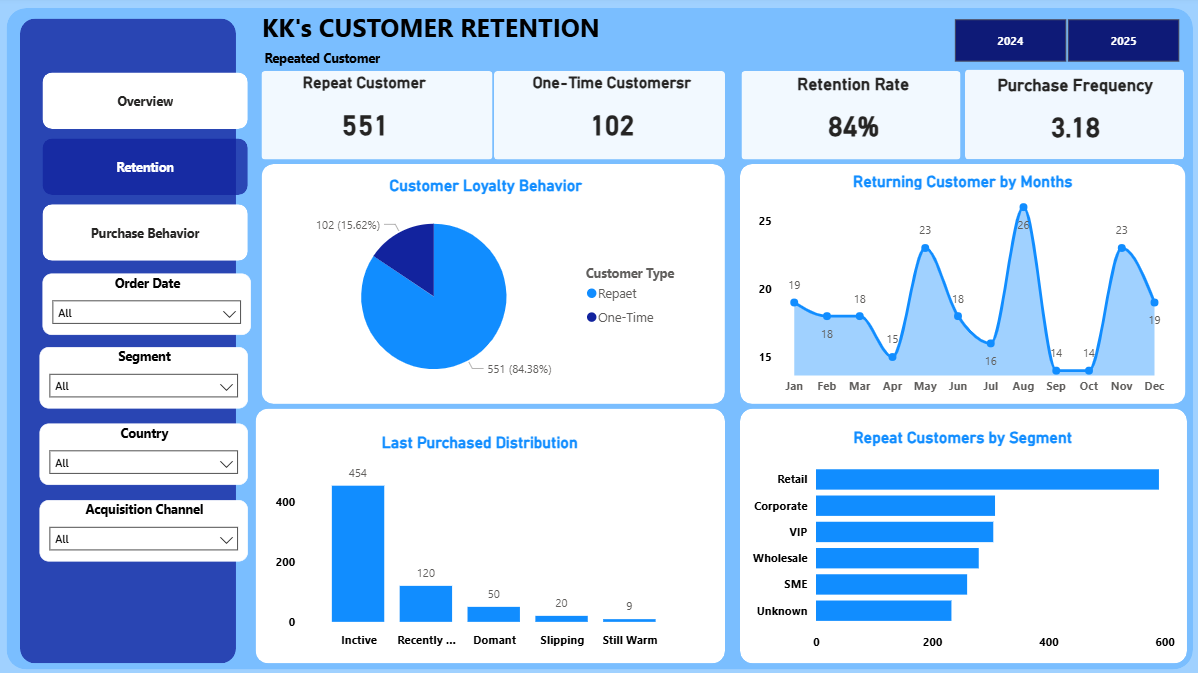

Layout of this report page (visuals, bound fields, positions):
{"tool":"powerbi","page":{"name":"Retention","canvas":[1280,720],"ordinal":1},"visuals":[{"type":"shape","box":[11.2,12.7,1260,702.5],"z":0},{"type":"shape","box":[25.5,23.9,229.4,685],"z":1000},{"type":"shape","box":[282.1,79.6,245.3,94],"z":1000,"group":"g1"},{"type":"group","id":"g1","title":"Group 1","box":[282.1,78.1,979.6,95.6],"z":2000},{"type":"shape","box":[528.8,79.6,245.3,94],"z":2000,"group":"g1"},{"type":"shape","box":[791.8,79.7,232.6,94],"z":3000,"group":"g1"},{"type":"shape","box":[275.6,438.1,498.6,270.8],"z":3000},{"type":"shape","box":[1029.2,78.1,232.6,95.6],"z":4000,"group":"g1"},{"type":"pageNavigator","box":[49.4,81.2,218.2,200.7],"z":4000},{"type":"card","title":"Repeat Customer","fields":{"Values":["Calender.Repeat Customers"]},"box":[281.9,81.2,218.2,89.2],"z":5000},{"type":"card","title":"One-Time Customersr","fields":{"Values":["Calender.One Time Customer"]},"box":[544.8,81.2,218.2,89.2],"z":6000},{"type":"shape","box":[234.2,46.2,224.6,38.2],"z":7000},{"type":"card","title":"Retention Rate","fields":{"Values":["Calender.Retention Customer"]},"box":[801.2,82.8,218.2,86],"z":8000},{"type":"card","title":"Purchase Frequency","fields":{"Values":["Calender.Purchase Frequency"]},"box":[1037,84.4,218.2,86],"z":9000},{"type":"shape","box":[790.1,438.1,474.7,270.8],"z":10000},{"type":"shape","box":[281.9,178.4,492.2,254.9],"z":11000},{"type":"shape","box":[790.1,178.4,473.1,254.9],"z":12000},{"type":"pieChart","title":"Customer Loyalty Behavior","fields":{"Category":["Customer_Summary.Customer Type"],"Y":["CountNonNull(Customer_Summary.Customer id)"]},"box":[297.9,191.2,444.4,235.8],"z":13000},{"type":"lineChart","title":"Returning Customer by Months","fields":{"Category":["Calender.Month Name"],"Y":["Calender.Repeat Customers"]},"box":[804.4,186.4,444.4,245.3],"z":14000},{"type":"columnChart","title":"Last Purchased Distribution","fields":{"Y":["CountNonNull(Customer_Summary.Customer id)"],"Category":["Customer_Summary.Recency"]},"box":[291.5,463.5,444.4,235.8],"z":15000},{"type":"clusteredBarChart","title":"Repeat Customers by Segment","fields":{"Category":["Customer Transaction (2).Segment"],"Y":["CountNonNull(Customer Transaction (2).Customer id)"]},"box":[796.5,458.8,460.4,245.3],"z":16000},{"type":"shape","box":[281.9,14.3,954.2,62.1],"z":17000},{"type":"slicer","fields":{"Values":["Calender.Year"]},"box":[992.4,17.5,288.3,58.9],"z":18000},{"type":"slicer","title":"Order Date","fields":{"Values":["Customer Transaction (2).Device_Type"]},"box":[49.4,294.7,221.4,65.3],"z":19000},{"type":"slicer","title":"Segment","fields":{"Values":["Customer Transaction (2).Segment"]},"box":[46.2,372.7,221.4,65.3],"z":20000},{"type":"slicer","title":"Country","fields":{"Values":["Customer Transaction (2).Product_Category"]},"box":[46.2,454,221.4,65.3],"z":21000},{"type":"slicer","title":"Acquisition Channel","fields":{"Values":["Customer Transaction (2).Acquisition_Channel"]},"box":[46.2,535.2,221.4,65.3],"z":22000}]}

Visuals, with their boxes in screenshot pixels (x1, y1, x2, y2), scaled from the page's 1280x720 canvas onto the 1198x673 screenshot:
shape: (10,12,1190,669)
shape: (24,22,239,663)
shape: (264,74,494,162)
"Group 1" group: (264,73,1181,162)
shape: (495,74,725,162)
shape: (741,74,959,162)
shape: (258,410,725,663)
shape: (963,73,1181,162)
pageNavigator: (46,76,250,263)
"Repeat Customer" card: (264,76,468,159)
"One-Time Customersr" card: (510,76,714,159)
shape: (219,43,429,79)
"Retention Rate" card: (750,77,954,158)
"Purchase Frequency" card: (971,79,1175,159)
shape: (739,410,1184,663)
shape: (264,167,725,405)
shape: (739,167,1182,405)
"Customer Loyalty Behavior" pieChart: (279,179,695,399)
"Returning Customer by Months" lineChart: (753,174,1169,404)
"Last Purchased Distribution" columnChart: (273,433,689,654)
"Repeat Customers by Segment" clusteredBarChart: (745,429,1176,658)
shape: (264,13,1157,71)
slicer - Calender.Year: (929,16,1197,71)
"Order Date" slicer: (46,275,253,336)
"Segment" slicer: (43,348,250,409)
"Country" slicer: (43,424,250,485)
"Acquisition Channel" slicer: (43,500,250,561)
